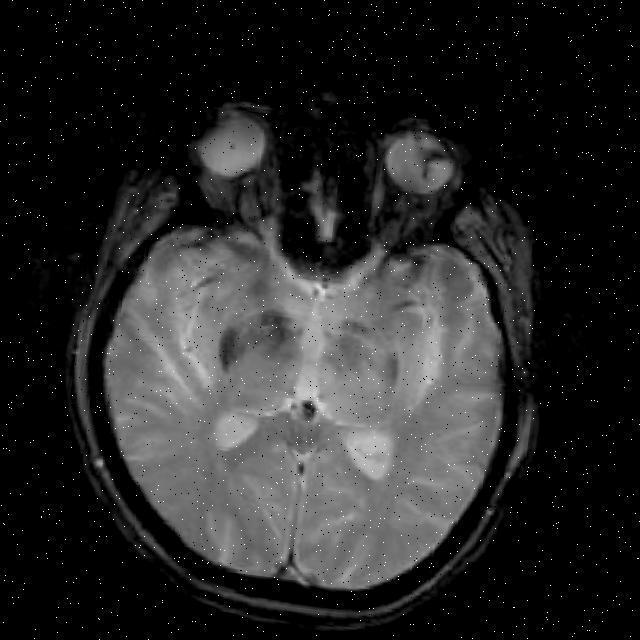EMCI: (320, 314, 420, 392), (207, 300, 289, 364)
